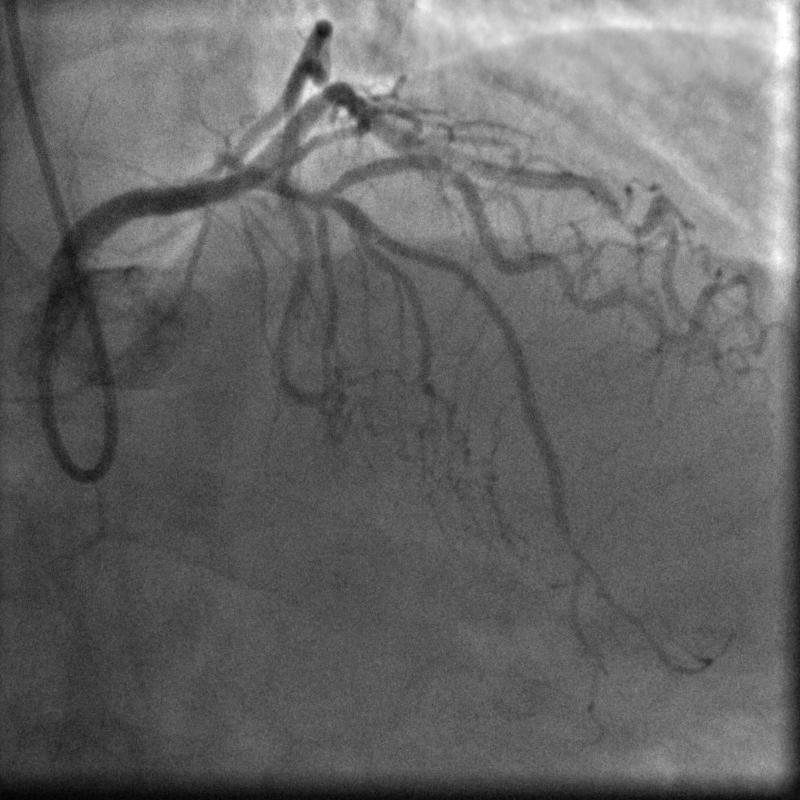Stenosis: (431, 151, 477, 199)
